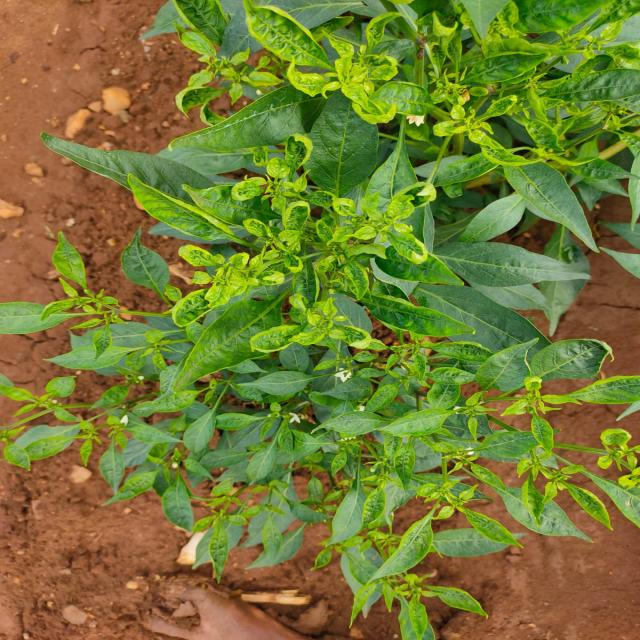Moko: (137, 122, 445, 337), (398, 0, 640, 173), (242, 0, 452, 148), (490, 408, 640, 552), (325, 523, 472, 640), (22, 224, 146, 355), (0, 343, 118, 465), (156, 12, 279, 115), (480, 354, 580, 441)
